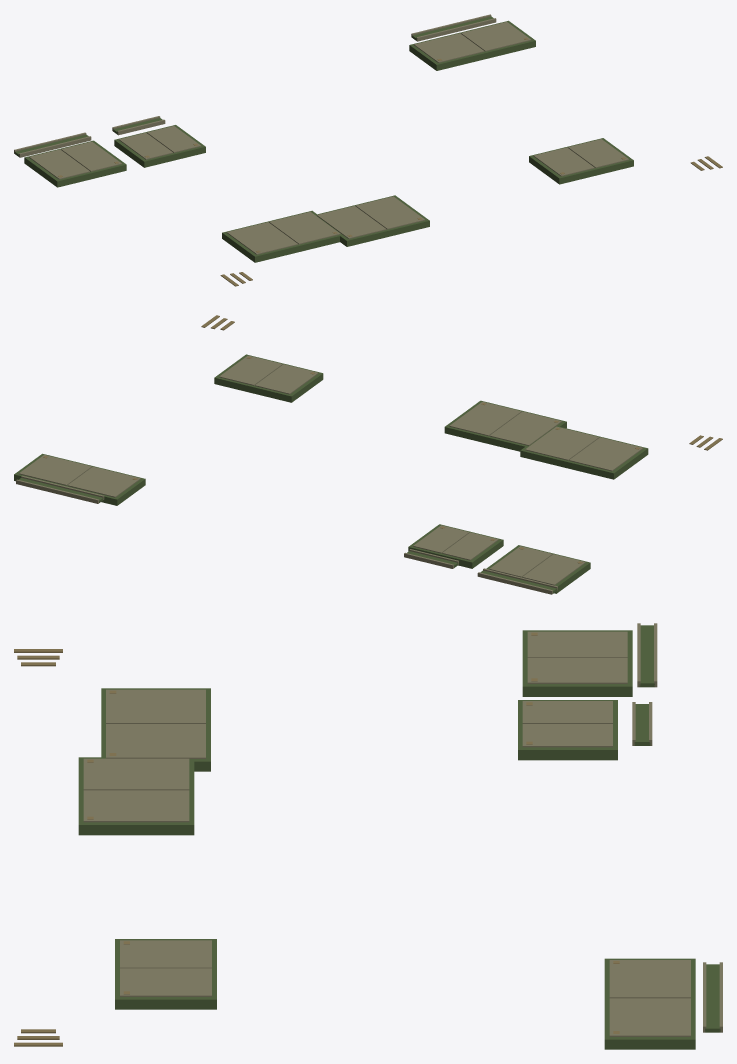
Rendered from R05-architecture.glb.
3 renders of one model, top to bottom at view 1: azimuth 30°, elevation 25°; view 2: azimuth 150°, elevation 25°; view 3: azimuth 270°, elevation 25°, orthographic. The views are drawn at different scales.
Parts seen in each view (by area): view 1: Inspection terrace • seat 1, Inspection terrace • seat 2, Archive footing • bedding, Wash station terrace • seat 1, Wash station terrace • seat 2, Archive footing • seat 1, Archive footing • seat 2, Inspection terrace • bedding, Receiver footstone • bedding, Grove planting curb • bedding, Grove planting curb • seat 1, Grove planting curb • seat 2 (+6 smaller); view 2: Inspection terrace • seat 2, Inspection terrace • seat 1, Wash station terrace • seat 1, Wash station terrace • seat 2, Archive footing • seat 1, Archive footing • seat 2, Inspection terrace • bedding, Receiver footstone • bedding, Grove planting curb • seat 1, Grove planting curb • seat 2, Receiver footstone • seat 1, Receiver footstone • seat 2 (+7 smaller); view 3: Wash station terrace • seat 2, Wash station terrace • seat 1, Inspection terrace • seat 1, Inspection terrace • seat 2, Archive footing • seat 2, Archive footing • seat 1, Grove planting curb • seat 1, Grove planting curb • seat 2, Receiver footstone • seat 1, Receiver footstone • seat 2, Wash station terrace • bedding, Grove planting curb • bedding (+8 smaller).
Part boxes in pixels (x1,y1,x2,y2): Inspection terrace • seat 1: (226,222,298,254); Inspection terrace • seat 2: (269,211,340,244); Archive footing • bedding: (409,20,535,70); Wash station terrace • seat 1: (317,206,386,238); Wash station terrace • seat 2: (355,196,424,229); Archive footing • seat 1: (414,33,484,62); Archive footing • seat 2: (461,22,531,51); Inspection terrace • bedding: (222,210,342,262); Receiver footstone • bedding: (529,138,633,184); Grove planting curb • bedding: (24,140,126,187); Grove planting curb • seat 1: (29,149,89,179); Grove planting curb • seat 2: (61,141,121,171); Inspection terrace • seat 2: (525,426,599,460); Inspection terrace • seat 1: (569,437,643,471); Wash station terrace • seat 1: (489,411,561,445); Wash station terrace • seat 2: (449,401,521,435); Archive footing • seat 1: (67,466,140,497); Archive footing • seat 2: (19,455,91,485); Inspection terrace • bedding: (520,426,648,479); Receiver footstone • bedding: (214,354,323,402); Grove planting curb • seat 1: (522,554,585,585); Grove planting curb • seat 2: (489,546,552,577); Receiver footstone • seat 1: (255,364,318,394); Receiver footstone • seat 2: (219,355,282,385); Wash station terrace • seat 2: (83,790,189,822); Wash station terrace • seat 1: (83,758,189,790); Inspection terrace • seat 1: (106,689,205,723); Inspection terrace • seat 2: (106,724,205,758); Archive footing • seat 2: (609,998,690,1036); Archive footing • seat 1: (609,960,690,998); Grove planting curb • seat 1: (527,631,627,657); Grove planting curb • seat 2: (527,657,627,683); Receiver footstone • seat 1: (120,940,211,968); Receiver footstone • seat 2: (120,968,211,996); Wash station terrace • bedding: (78,757,194,835); Grove planting curb • bedding: (522,630,632,696).
Bounding box in the file's own units: 10.12 × 0.1685 × 7.23.
